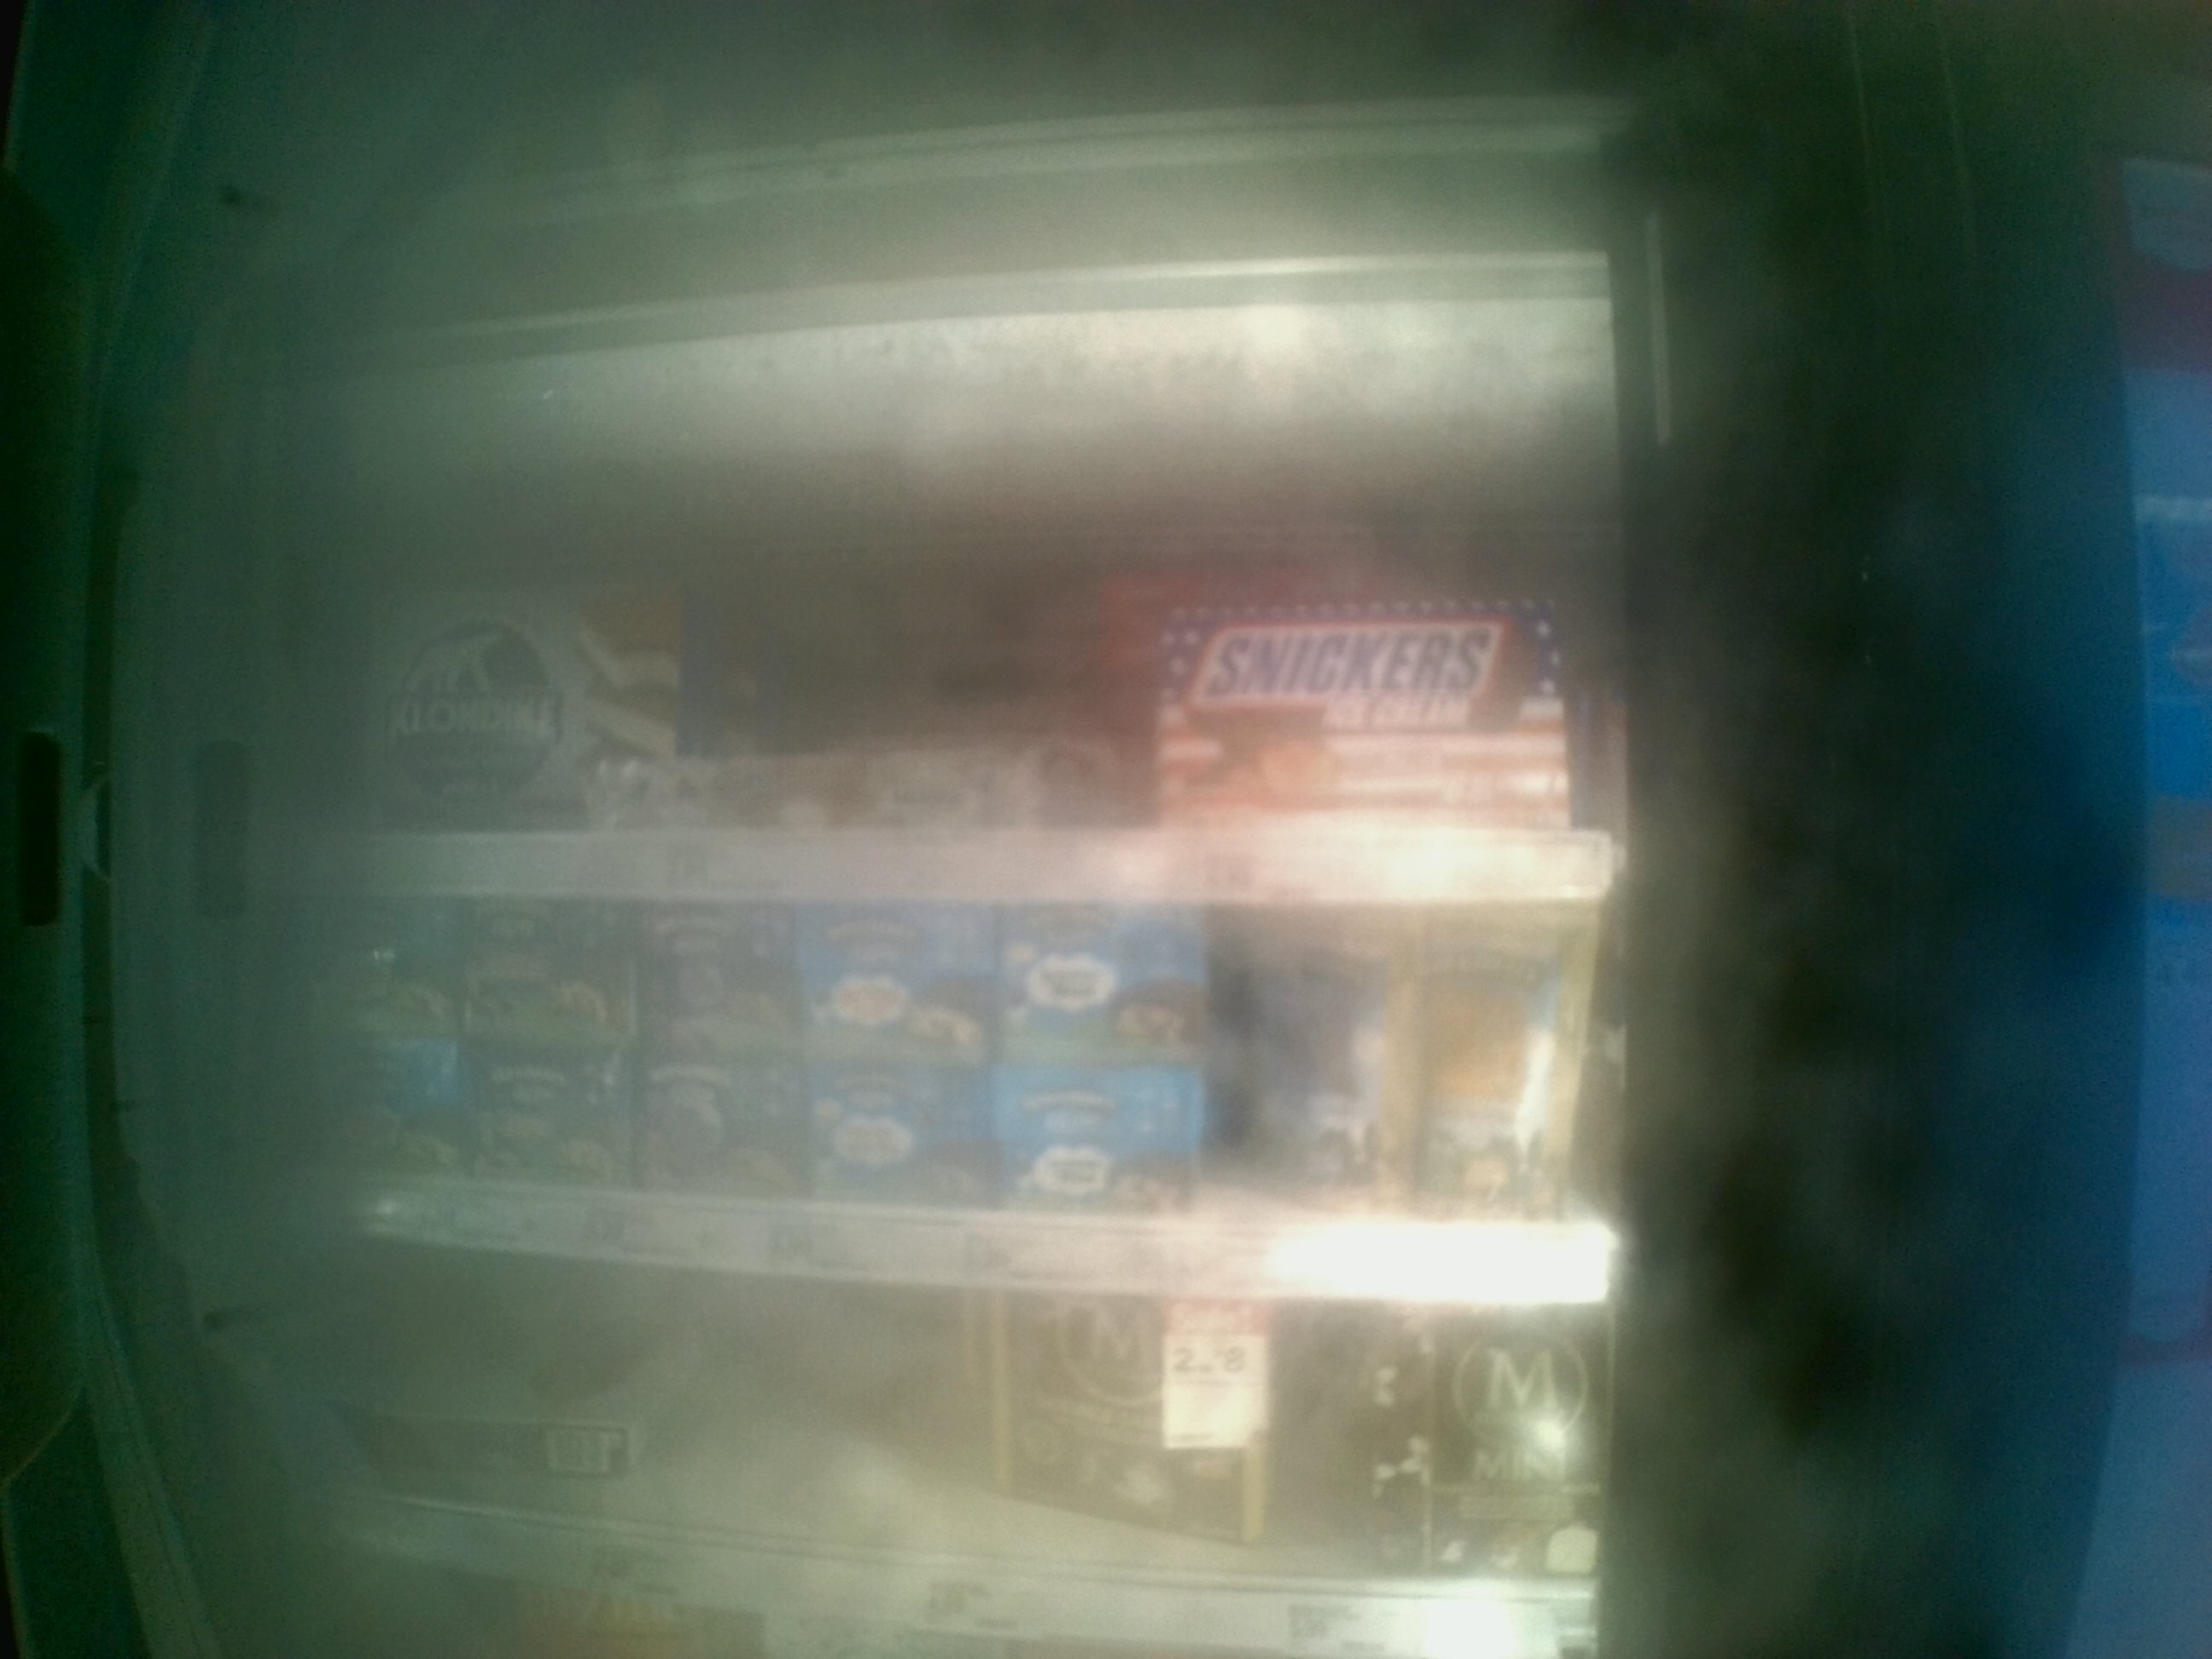shelf: (308, 457, 1622, 904), (308, 904, 1616, 1319)
